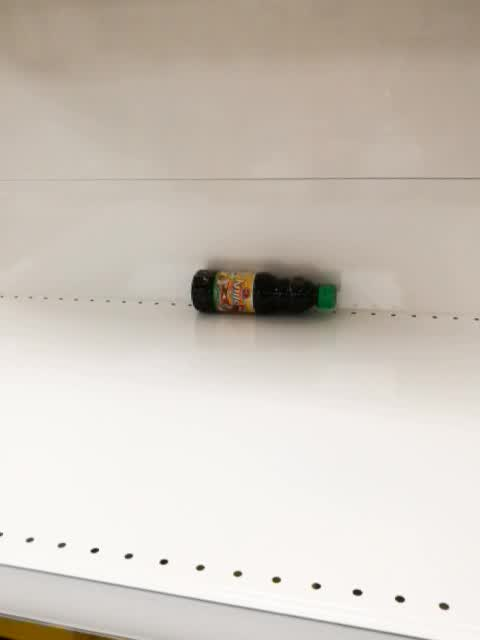cookingoil: (188, 266, 341, 318)
